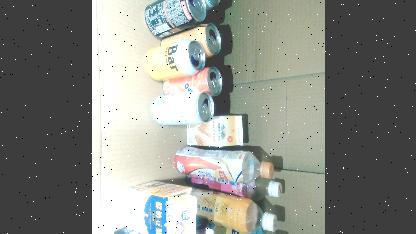Can: (143, 38, 205, 82), (144, 0, 206, 40), (150, 90, 214, 126), (159, 22, 221, 58), (162, 66, 223, 98), (159, 0, 221, 10)
Plastic Bottle: (172, 146, 274, 185), (190, 190, 278, 234), (184, 174, 282, 200), (210, 224, 284, 234)
